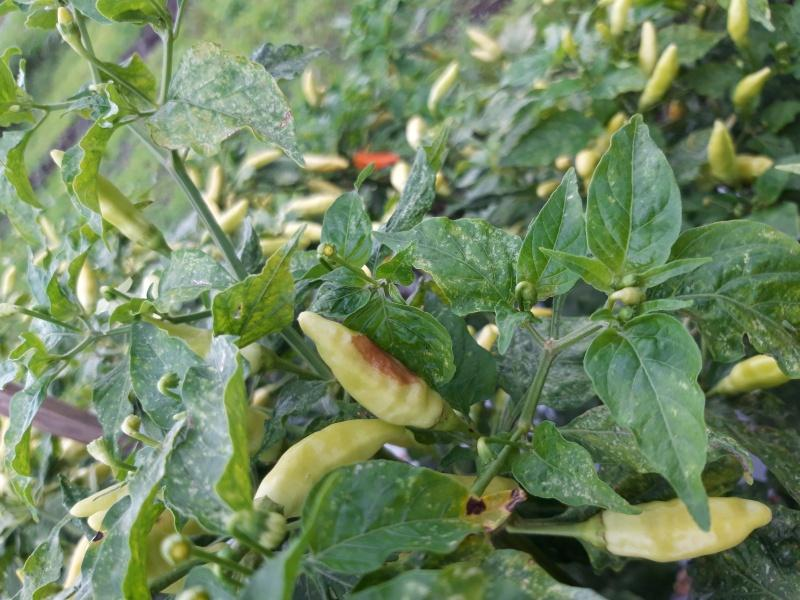antraknosa: (299, 312, 444, 426)
cabai_normal: (257, 419, 414, 519), (597, 497, 770, 565), (47, 146, 153, 243), (642, 42, 679, 105), (707, 120, 740, 183), (731, 64, 771, 111)
